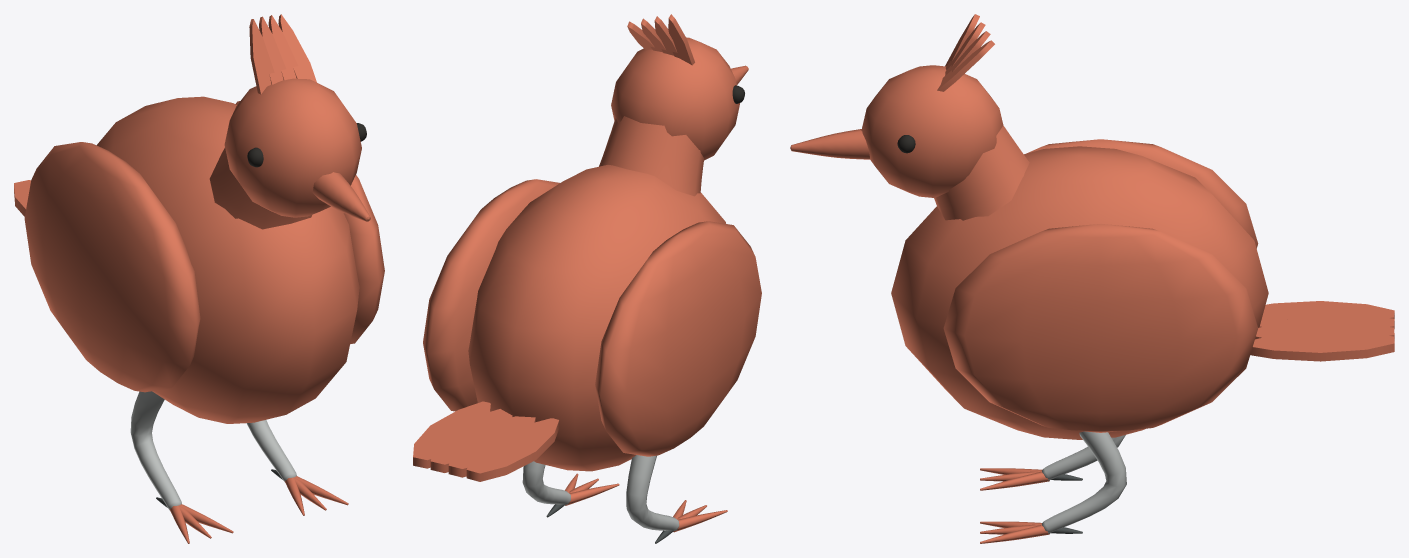
Rendered from birds-and-flying-creatures-northern-cardinal-9818b5a9__20611.glb.
3 views of the same model, side by side, from view 1: azimuth 30°, elevation 25°; view 2: azimuth 150°, elevation 25°; view 3: azimuth 270°, elevation 25° (orthographic). The views are drawn at different scales.
Visible parts, largest first — view 1: northern-cardinal; view 2: northern-cardinal; view 3: northern-cardinal.
Boxes of the visible parts, bbox=[...] form: northern-cardinal: bbox=[14, 14, 384, 543]; northern-cardinal: bbox=[413, 14, 761, 543]; northern-cardinal: bbox=[790, 14, 1394, 543].
Size of the model in its own units: 0.1096 by 0.2145 by 0.2421.
